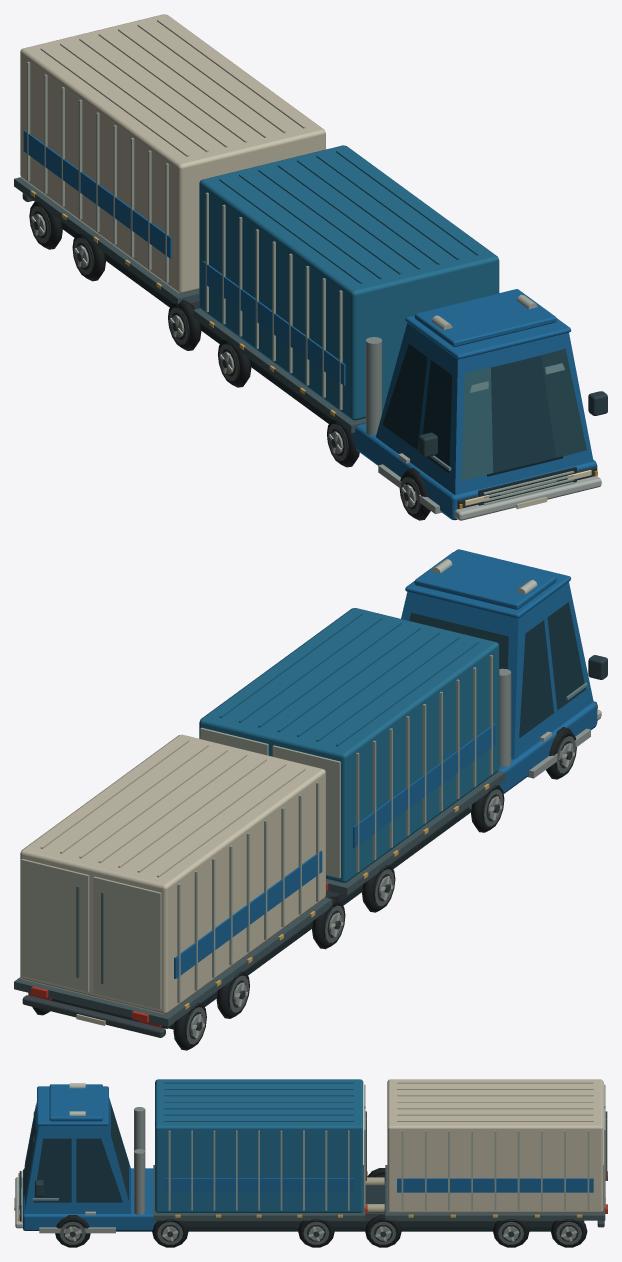
Rendered from roadtrain.glb.
3 renders of one model, top to bottom at view 1: azimuth 30°, elevation 25°; view 2: azimuth 150°, elevation 25°; view 3: azimuth 270°, elevation 25°, orthographic. The views are drawn at different scales.
Parts seen in each view (by area): view 1: roadtrain_body; view 2: roadtrain_body; view 3: roadtrain_body.
Boxes of the visible parts, x1,y1,x2,y2 form: roadtrain_body: [14, 14, 607, 520]; roadtrain_body: [14, 549, 607, 1050]; roadtrain_body: [14, 1079, 607, 1247].
Bounding box in the file's own units: 3.06 × 2.98 × 12.68.
